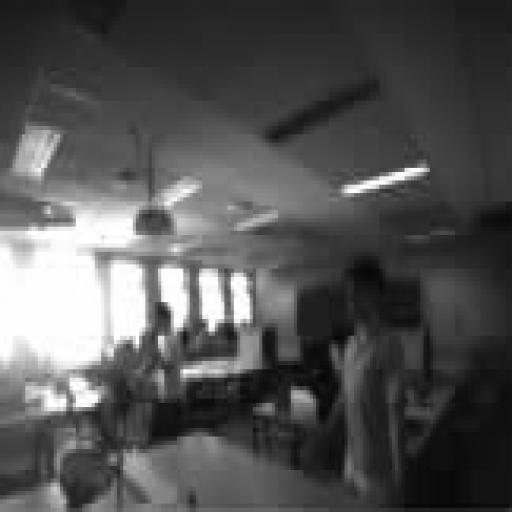human: (342, 256, 404, 503), (140, 303, 183, 436)
